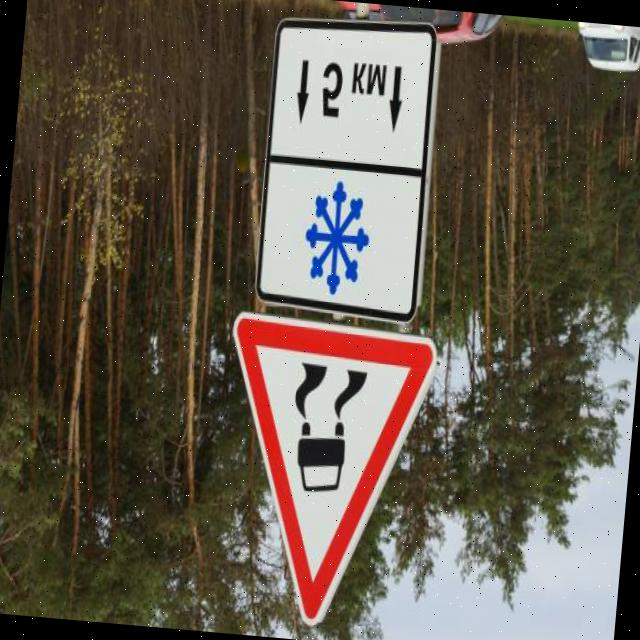road_slippery: (206, 311, 439, 636)
